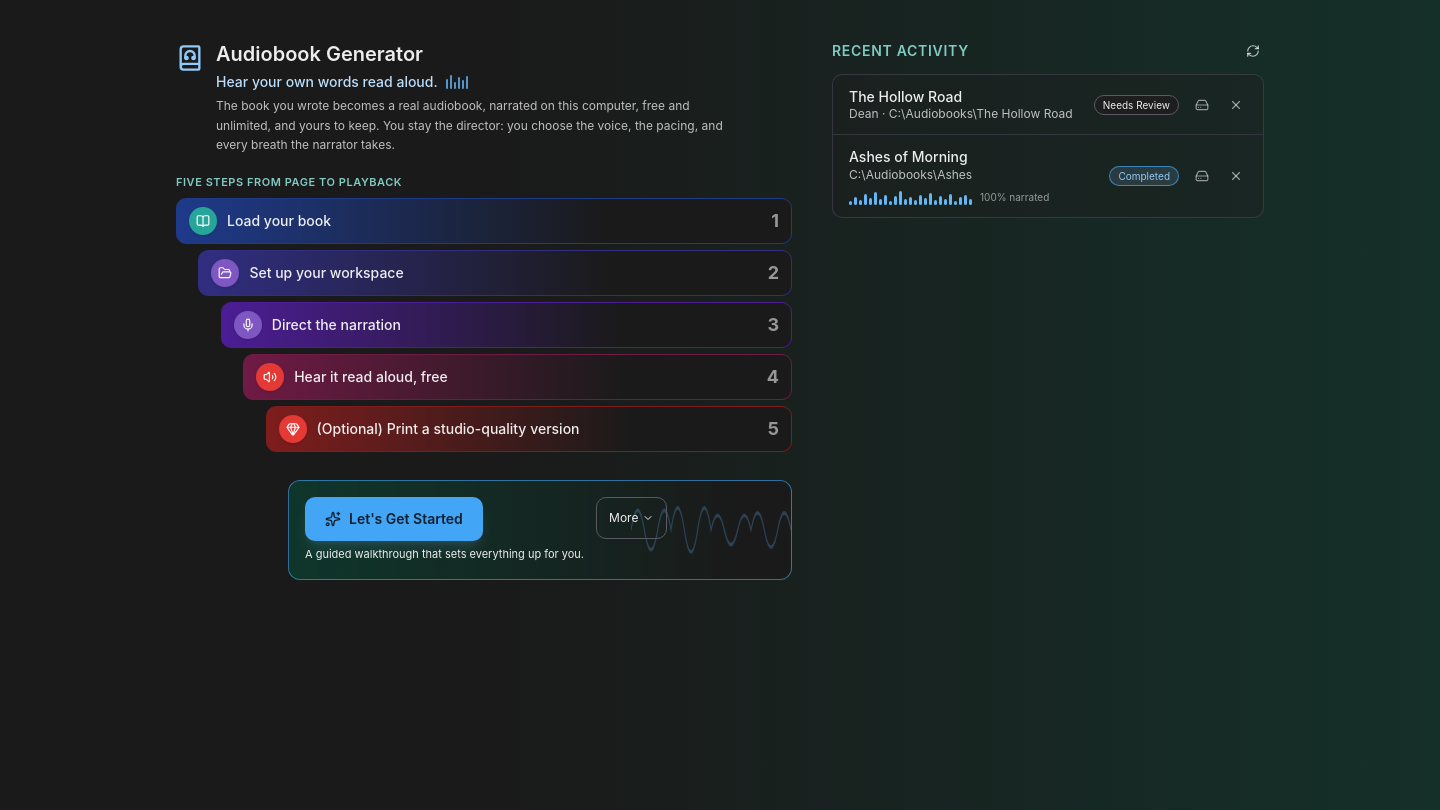
Test: AudiobookDashboard › teaches the five-step workflow and demotes Open Existing to More
The width and height of the screenshot is (1440, 810).
Expected: the text "The Hollow Road" is shown, [849, 88, 962, 105]
Expected: the text "Hear your own words read aloud." is shown, [216, 73, 468, 90]
What coordinates should you click on to do the following:
click the button "More"
I would click on:
 (632, 518)
Its box is [596, 497, 667, 539].
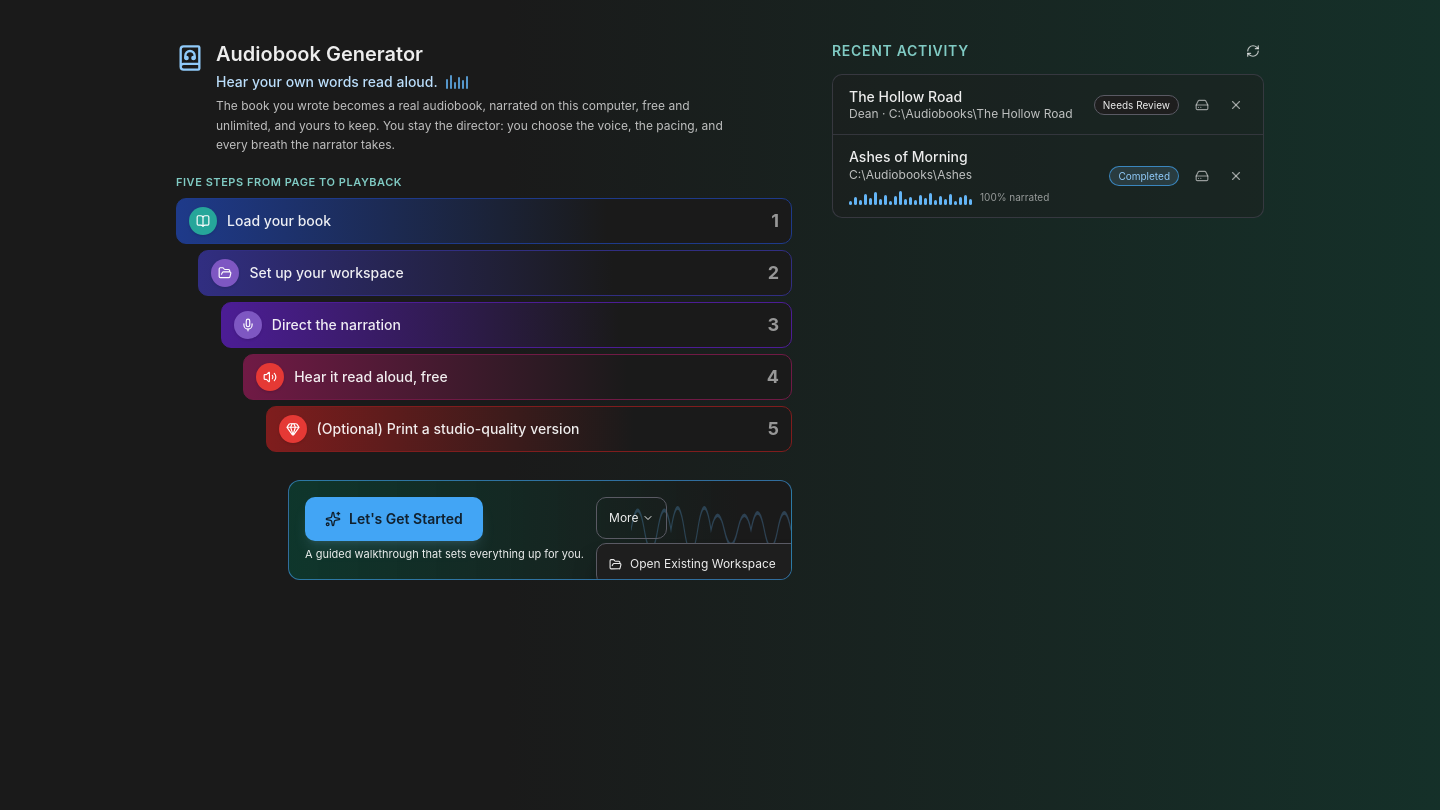
Expected: the button "Open Existing Workspace" is shown, [597, 548, 792, 580]
